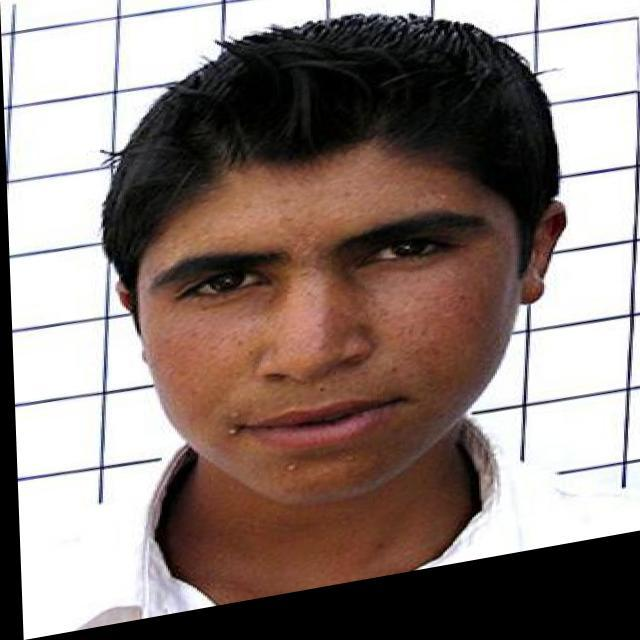Nonhelmet: (92, 9, 566, 516)
